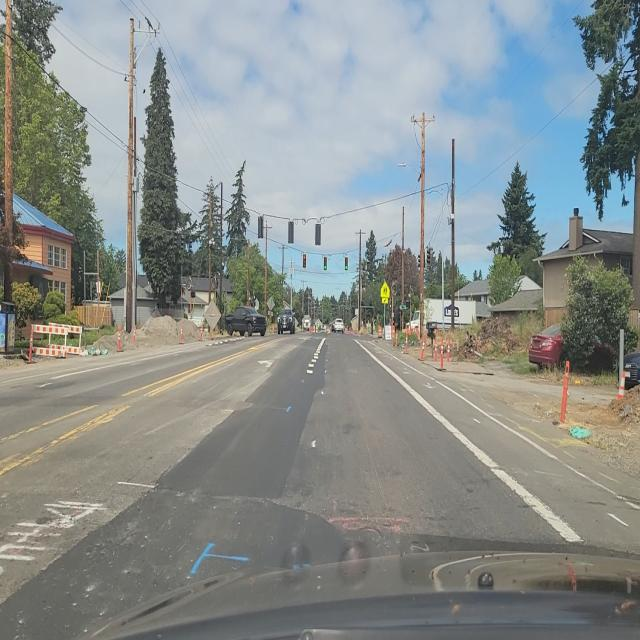car: (528, 323, 565, 370), (223, 307, 266, 337), (620, 348, 640, 390), (277, 310, 296, 334), (406, 309, 422, 334), (333, 318, 344, 334)
crosswalk-sign: (380, 282, 390, 302)
delineator: (560, 360, 570, 424), (617, 368, 627, 400), (28, 324, 34, 362), (439, 339, 445, 371), (404, 328, 410, 353), (420, 336, 425, 362), (117, 328, 122, 353), (446, 340, 451, 362), (198, 323, 204, 341), (434, 339, 438, 362), (179, 326, 184, 344), (395, 326, 399, 348), (132, 324, 136, 344), (208, 324, 212, 340), (392, 323, 395, 342), (309, 322, 313, 334)
